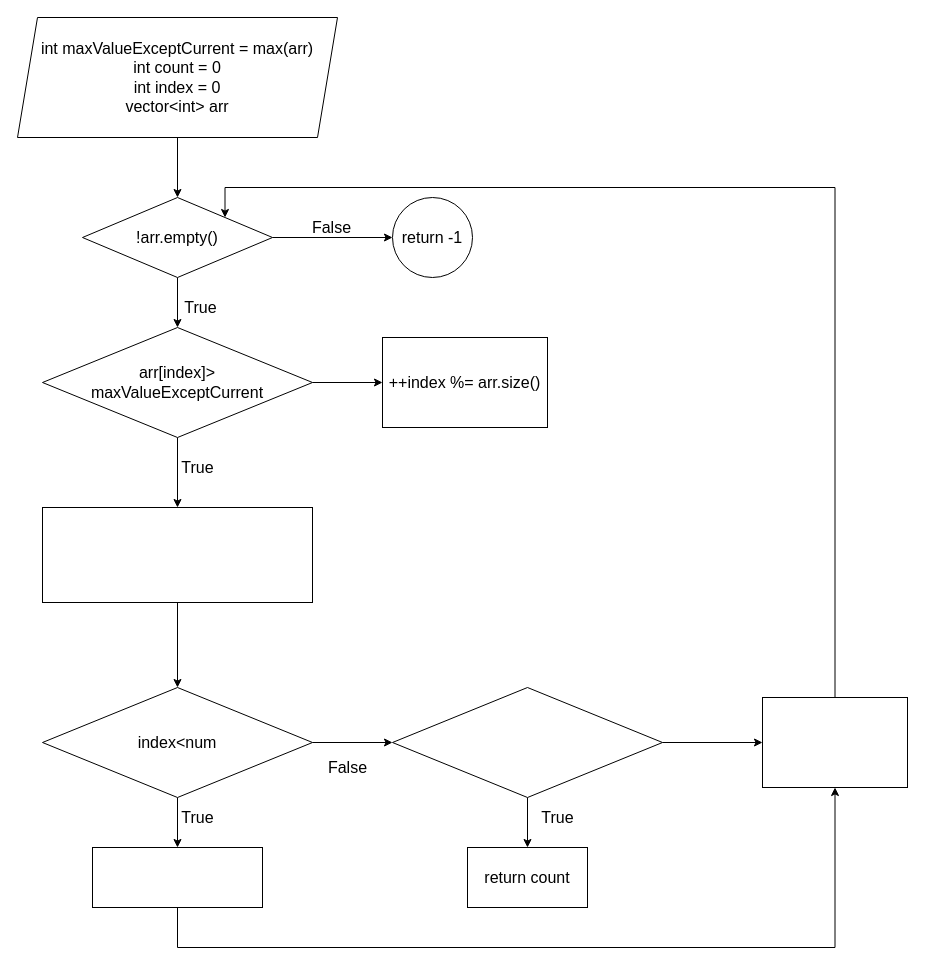
Some shapes in this 925 by 973 pixel diagram are drawn without their labels. The shapes that lost their labels are listed below. From the top down, each one's centre as x and y in pixels, then its label:
At (x=177, y=554): "delete arr[index] maxValueExceptCurrent = max(arr) count++".
At (x=527, y=742): "index==num".
At (x=835, y=742): "index %= arr.size()".
At (x=177, y=877): "num--".
